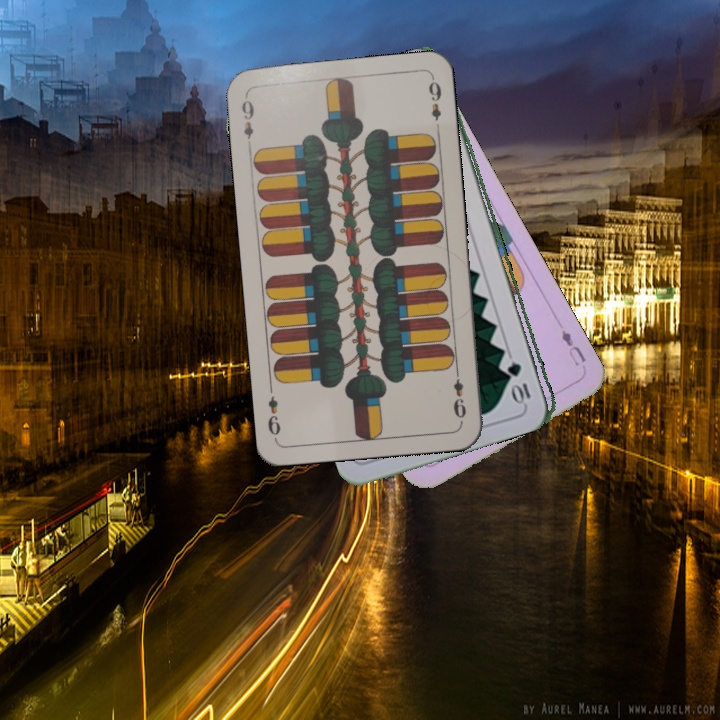E9: (449, 365, 469, 424), (237, 96, 257, 142)
EU: (557, 326, 589, 369)
G10: (506, 357, 534, 406)
